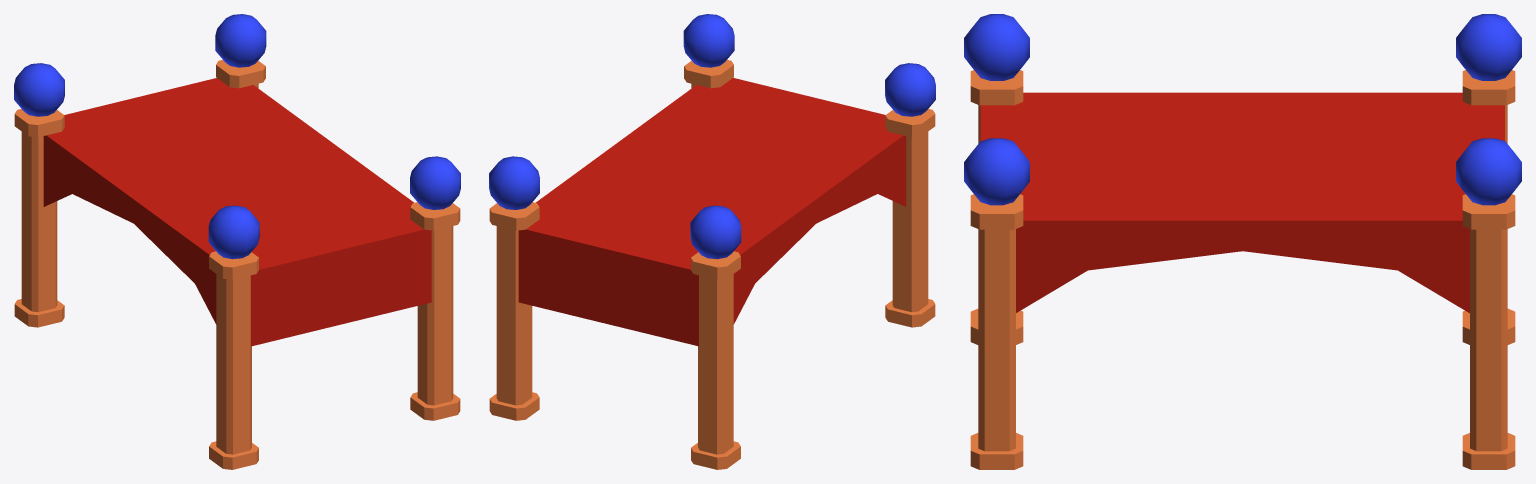
File: cong Italia.FBX
3 views of the same model, side by side, from view 1: azimuth 30°, elevation 25°; view 2: azimuth 150°, elevation 25°; view 3: azimuth 270°, elevation 25° (orthographic). The views are drawn at different scales.
Visible parts, largest first — view 1: cong Italia001, cong Italia004, cong Italia003, cong Italia002, Sphere030, Sphere033, Sphere031, Sphere032; view 2: cong Italia001, cong Italia003, cong Italia004, Sphere031, Sphere032, Sphere030, Sphere033, cong Italia002; view 3: cong Italia001, cong Italia002, Sphere030, Sphere031, Sphere032, Sphere033, cong Italia004, cong Italia003.
Boxes of the visible parts, x1,y1,x2,y2 form: cong Italia001: (43,59,431,346); cong Italia004: (209,251,258,469); cong Italia003: (14,109,64,327); cong Italia002: (410,202,460,420); Sphere030: (215,14,266,67); Sphere033: (208,205,259,259); Sphere031: (410,156,460,209); Sphere032: (14,63,64,116); cong Italia001: (489,78,906,420); cong Italia003: (691,251,740,469); cong Italia004: (885,109,935,327); Sphere031: (683,14,734,67); Sphere032: (690,205,741,259); Sphere030: (489,156,539,209); Sphere033: (885,63,935,116); cong Italia002: (684,59,733,88); cong Italia001: (980,92,1515,469); cong Italia002: (970,194,1023,469); Sphere030: (1456,138,1521,205); Sphere031: (964,138,1029,205); Sphere032: (1456,14,1521,80); Sphere033: (964,14,1029,80); cong Italia004: (970,70,1023,344); cong Italia003: (1462,70,1515,344).
Size of the model in its own units: 5.69 by 5.6 by 8.9.
